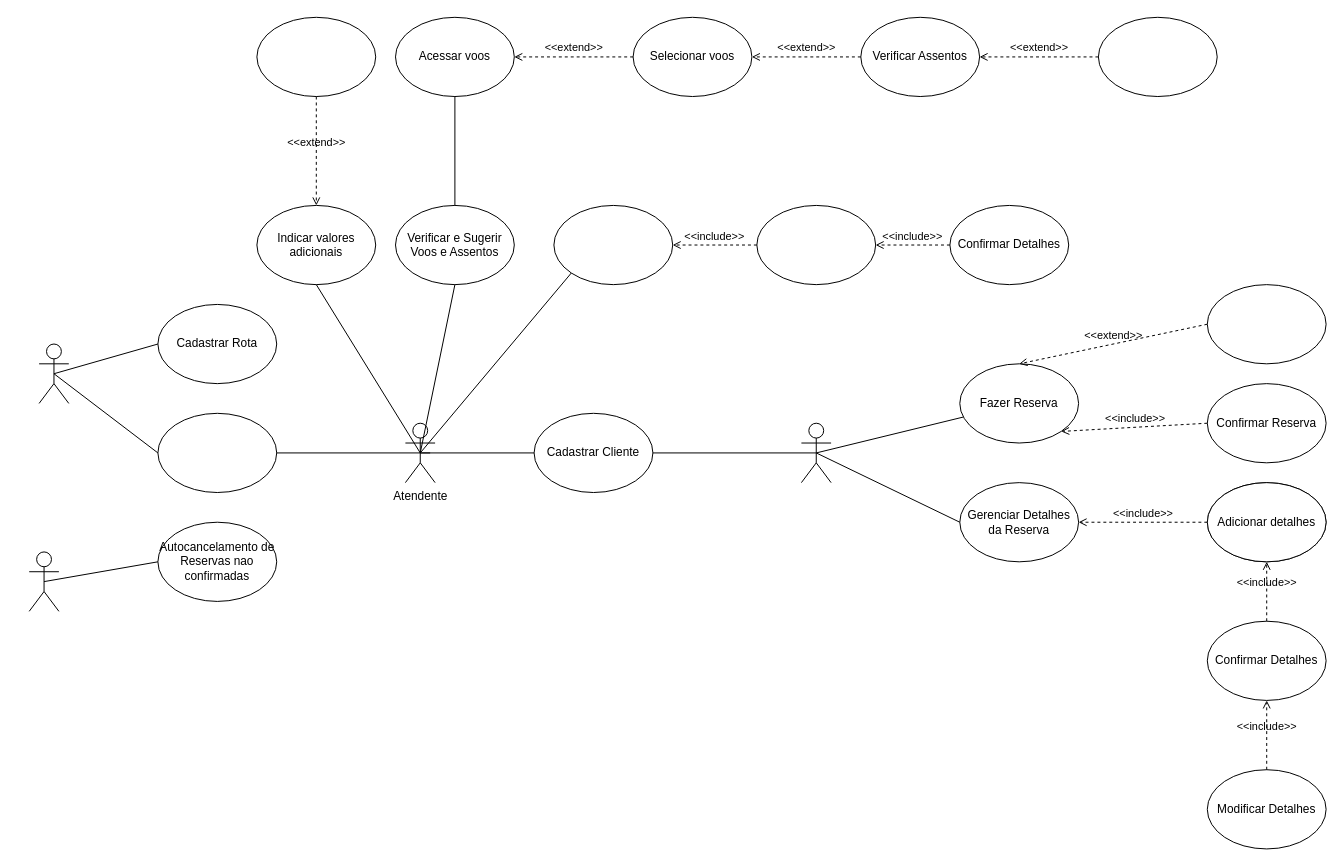
Image size: 1343x866. Some labels were removed from this diagram. Each missing label, with the centre of its shape:
Administrador: point 53,373
Alterar Reserva: point 613,244
Cadastrar atendente: point 217,452
Cliente: point 815,452
Fazer pedido de serviços adicionais: point 1266,324
Modificar Detalhes da Reserva: point 816,244
Notificar Restrições de Valores Adicionais: point 316,56
Sistema: point 43,581
Sugerir Assentos: point 1157,56
